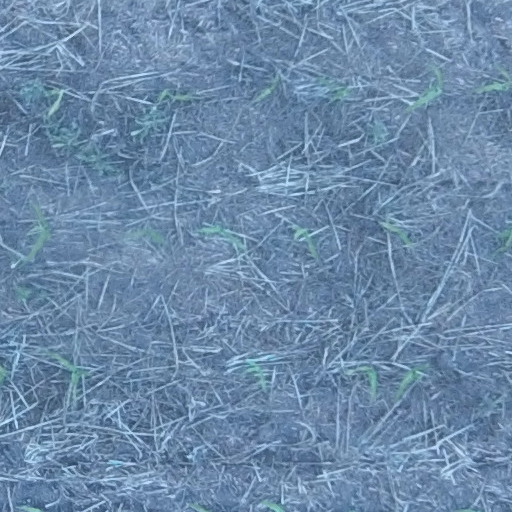planta: (43, 351, 91, 396), (17, 207, 51, 265), (407, 63, 446, 110), (197, 223, 245, 253), (395, 364, 429, 399), (251, 69, 284, 104), (346, 364, 378, 399), (240, 357, 268, 394), (317, 76, 354, 103), (376, 220, 412, 244), (292, 225, 318, 258), (40, 86, 65, 117), (126, 227, 165, 244), (154, 87, 195, 103)
